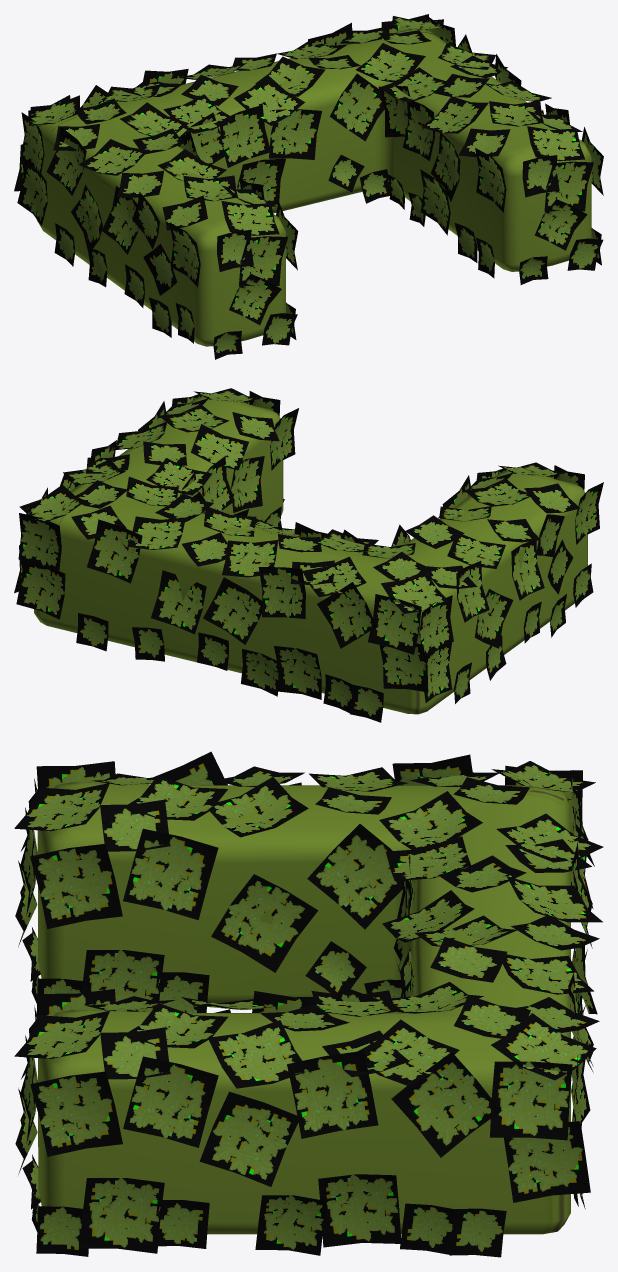
File: objects_un_t01hedge01.gltf
The picture shows the model from 3 angles, top to bottom: view 1: azimuth 30°, elevation 25°; view 2: azimuth 150°, elevation 25°; view 3: azimuth 270°, elevation 25°; orthographic projection. The views are drawn at different scales.
Visible parts, largest first — view 1: um_objects_un_t01hedge01_model_lod0Shape:objects_un_t01hedge (×2); view 2: um_objects_un_t01hedge01_model_lod0Shape:objects_un_t01hedge (×2); view 3: um_objects_un_t01hedge01_model_lod0Shape:objects_un_t01hedge (×2).
Boxes of the visible parts, box(x1,y1,x2,y2) form: um_objects_un_t01hedge01_model_lod0Shape:objects_un_t01hedge (×2): box(14, 14, 603, 359); um_objects_un_t01hedge01_model_lod0Shape:objects_un_t01hedge (×2): box(14, 388, 603, 722); um_objects_un_t01hedge01_model_lod0Shape:objects_un_t01hedge (×2): box(14, 751, 603, 1257).
Size of what is drawn, in the model's own units: 4.35 by 1.34 by 3.39.
Materials: 2 (2 with a texture image).
